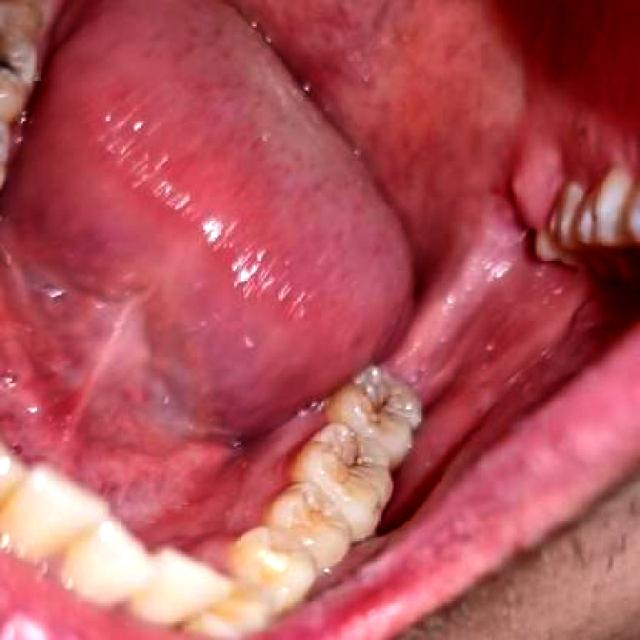Plaque: (348, 389, 408, 426), (320, 446, 374, 478)
